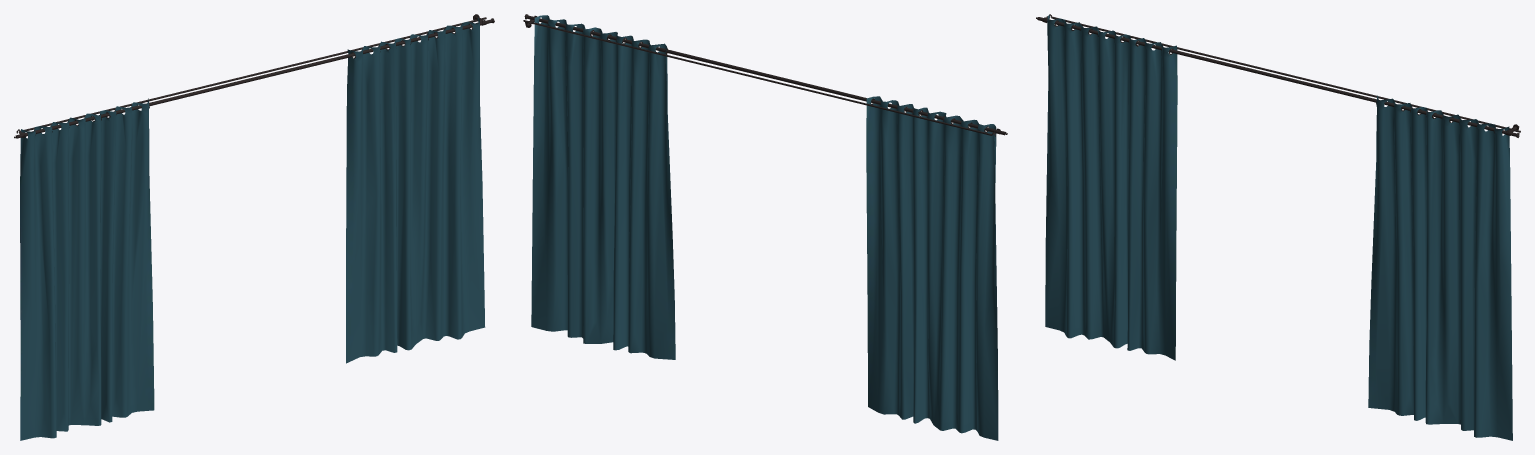
File: curtain.glb
The picture shows the model from 3 angles, left to right: view 1: azimuth 30°, elevation 25°; view 2: azimuth 150°, elevation 25°; view 3: azimuth 330°, elevation 25°; orthographic projection.
Parts seen in each view (by area): view 1: left; view 2: left; view 3: left.
Part boxes in pixels (<box>): left: <box>14,14,494,440</box>; left: <box>523,14,1007,440</box>; left: <box>1036,14,1520,440</box>.
Size of the model in its own units: 4.02 by 2.49 by 0.1776.
1 material, 1 textured.
